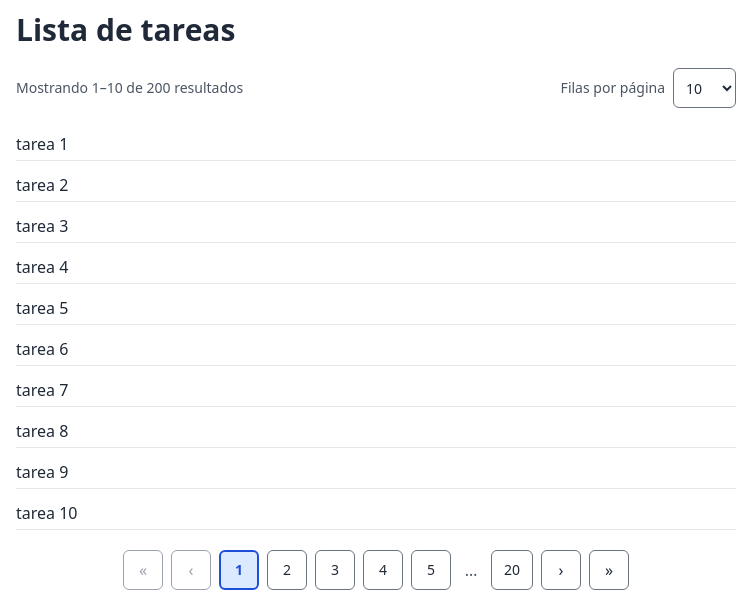
Test case: navegación › ir a una página cambia los ítems y la URL
The width and height of the screenshot is (753, 611).
Click the button "3" at (335, 570), box [315,550,355,590]
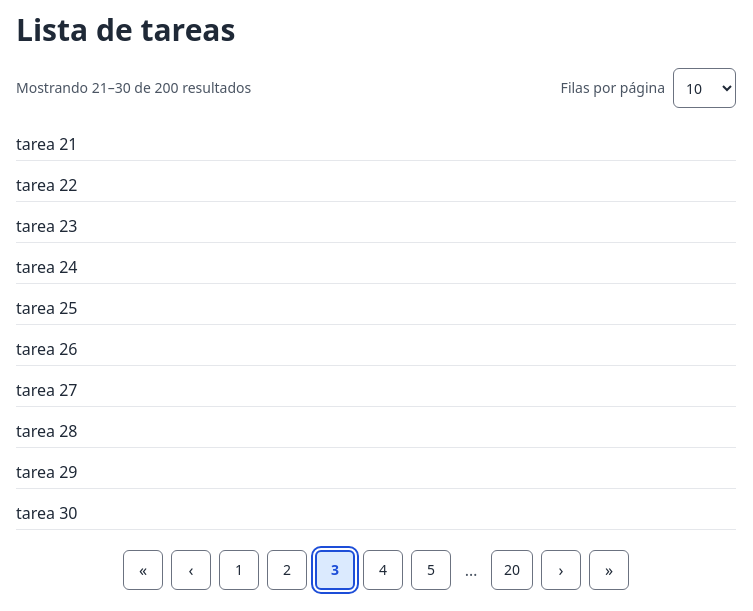
Result: the text "Mostrando 21–30 de 200 resultados" is shown at [16,78,251,98]
Result: the list item "tarea 21" is shown at [16,128,736,161]
